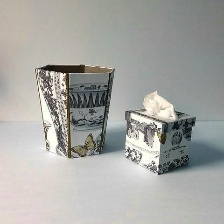plastic_box: (28, 58, 119, 162), (119, 103, 200, 178)
tissue: (136, 86, 182, 124)
